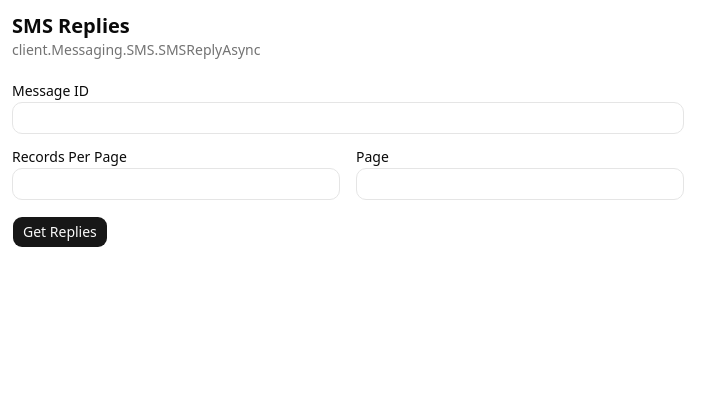
Test: SmsReplyPage › renders the response
Type "abc-123" into the field labelled "Message ID" at (348, 118), box [12, 102, 684, 134]
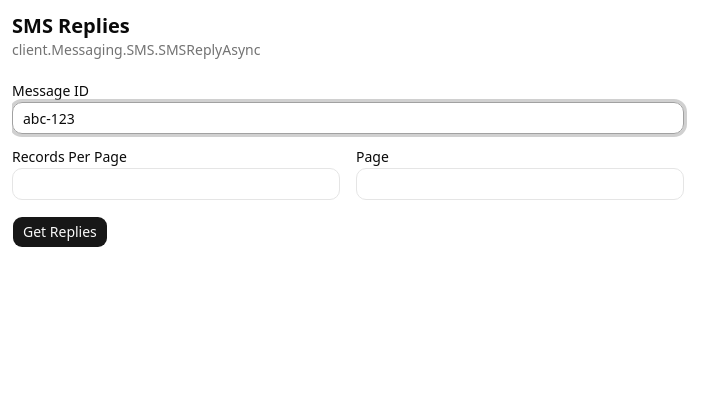
Click the button "Get Replies" at (60, 232), box [12, 216, 108, 248]
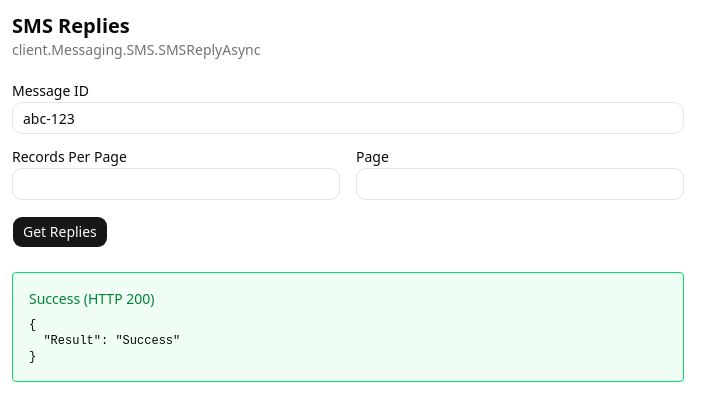
Expected: the text "Success (HTTP 200)" is shown, [29, 289, 154, 308]
